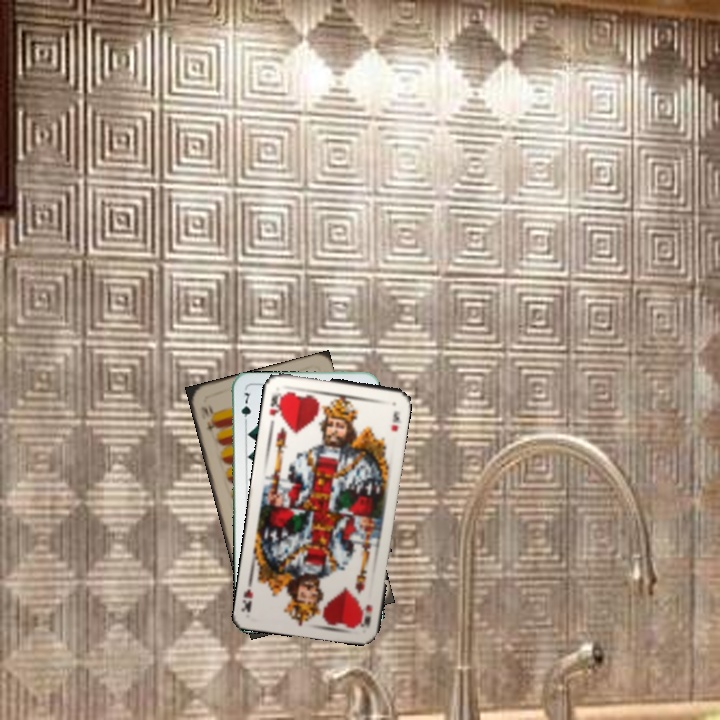E10: (196, 400, 219, 435)
G7: (237, 388, 254, 428)
HK: (265, 388, 286, 419), (357, 600, 375, 629)
